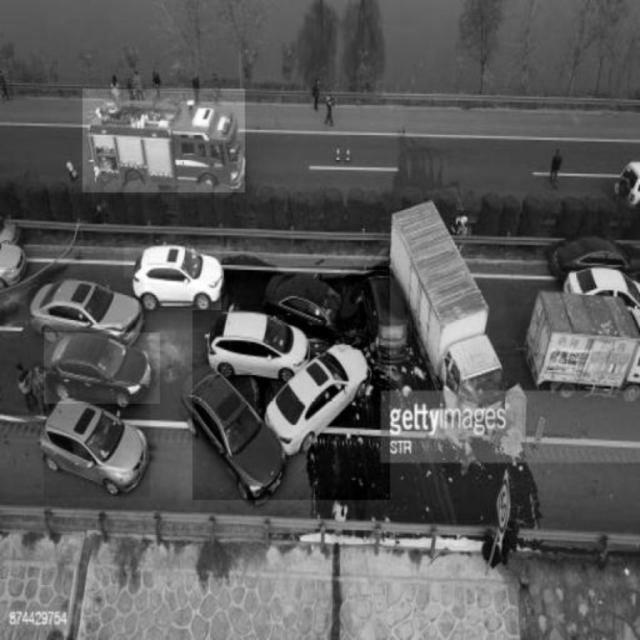accident: (193, 267, 390, 500)
vehicle: (83, 90, 245, 193), (44, 398, 150, 498), (44, 333, 160, 404), (31, 278, 144, 339), (124, 246, 222, 310)
